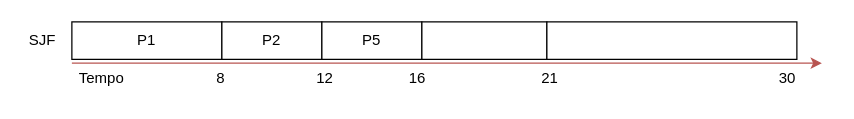
Some shapes in this 854 by 119 pixel diagram are drawn without their labels. The shapes that lost their labels are listed below. From the top down, each one's centre as x and y in pixels, then its label:
At point 484,40: "P4".
At point 671,40: "P3".
